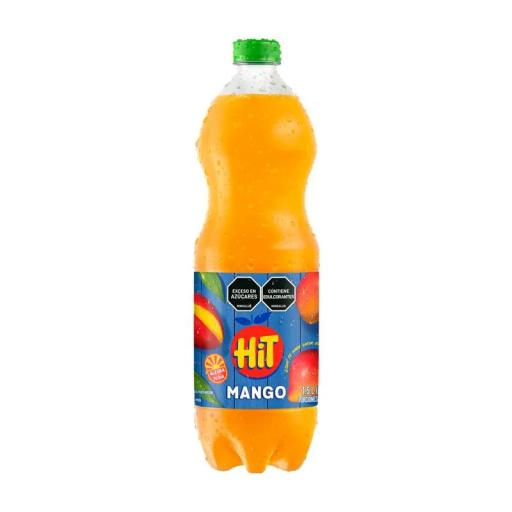JugoHM: (170, 19, 383, 490)
